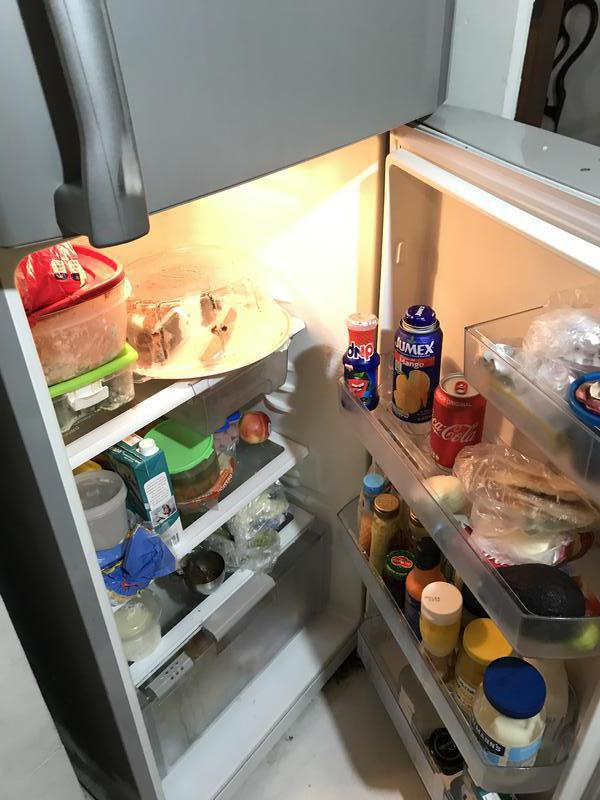coca_cola: (427, 372, 489, 470)
danup: (340, 309, 382, 415)
jugo_jumex: (391, 305, 446, 423)
